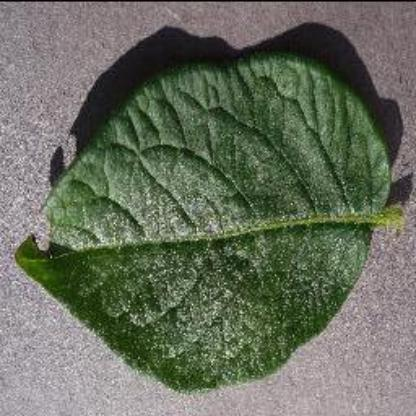Healthy-plant: (10, 46, 416, 390)
